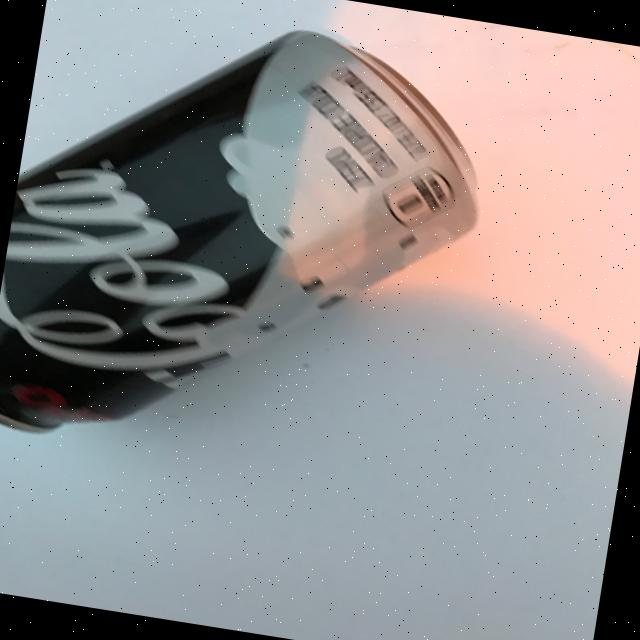metal: (0, 0, 505, 497)
